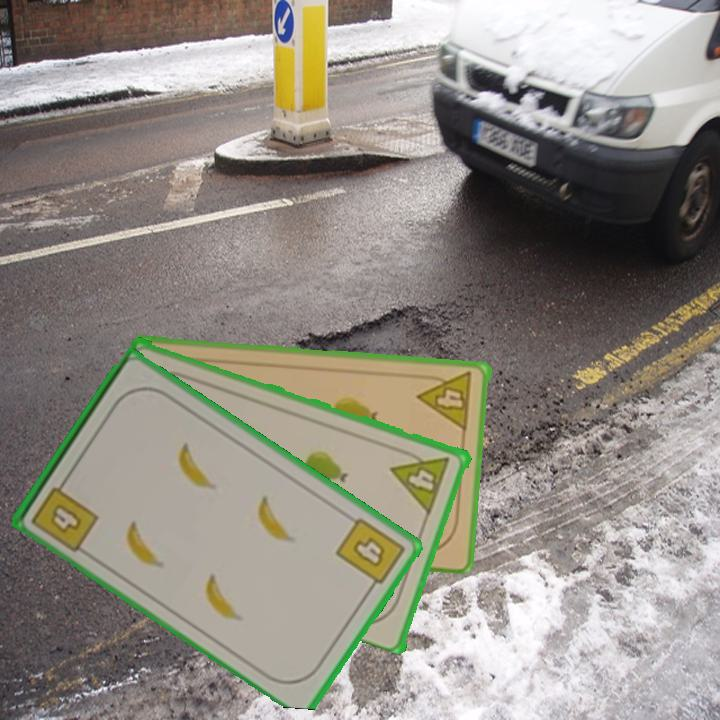4b: (332, 513, 408, 595), (28, 473, 102, 555)
4p: (388, 444, 453, 516), (415, 368, 476, 434)
